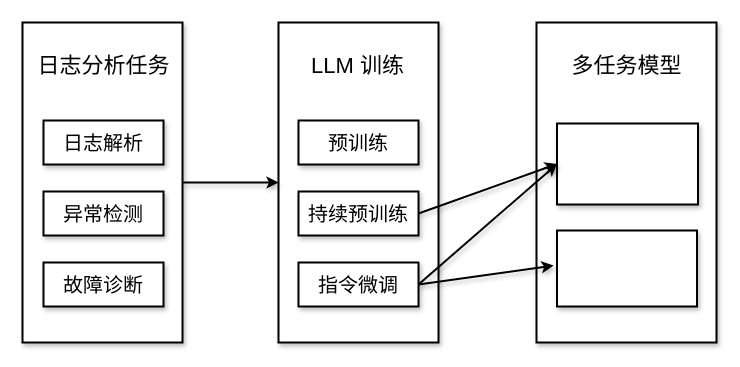
Image size: 740x367. Some labels were removed from this diagram. Each missing label, with the centre of its shape:
"基于任务指令 LogMT" goes at (628,269).
"基于知识注入 LogMT-Zero" goes at (628,165).
